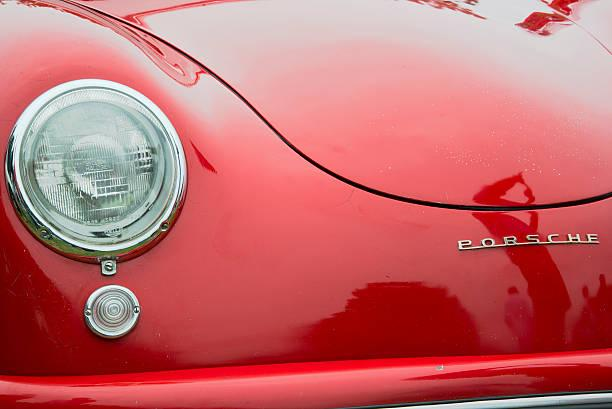porsche: (442, 224, 610, 256)
